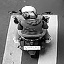mobil: (9, 6, 55, 58)
